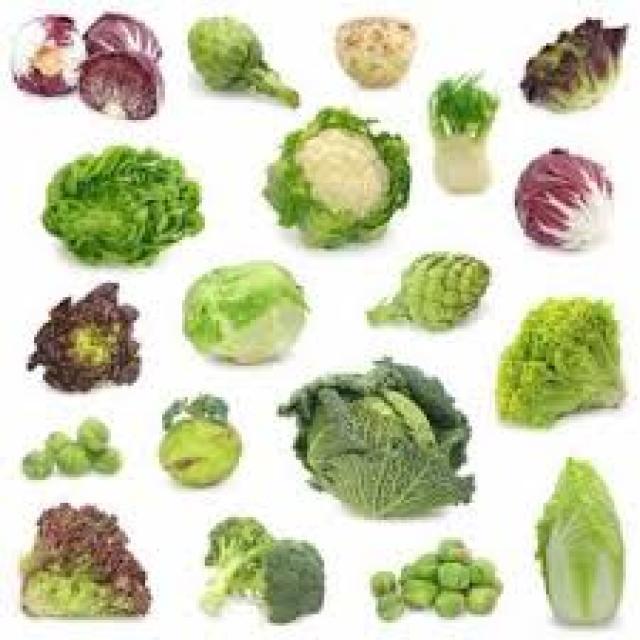broccoli: (188, 505, 338, 627)
cabbage: (280, 342, 486, 519), (43, 153, 277, 307), (5, 3, 192, 132), (163, 258, 333, 364), (516, 149, 634, 250)
cayliflower: (256, 98, 418, 255)
choux de bruxelles: (359, 525, 522, 640), (0, 402, 146, 496)
salad: (497, 282, 640, 451), (0, 502, 159, 637), (527, 455, 640, 640)
